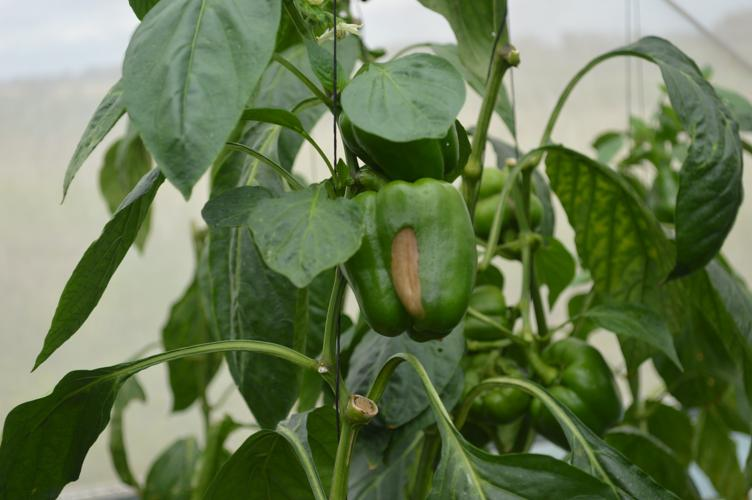BellPepper: (341, 177, 480, 351), (338, 87, 480, 194), (522, 328, 634, 447)
